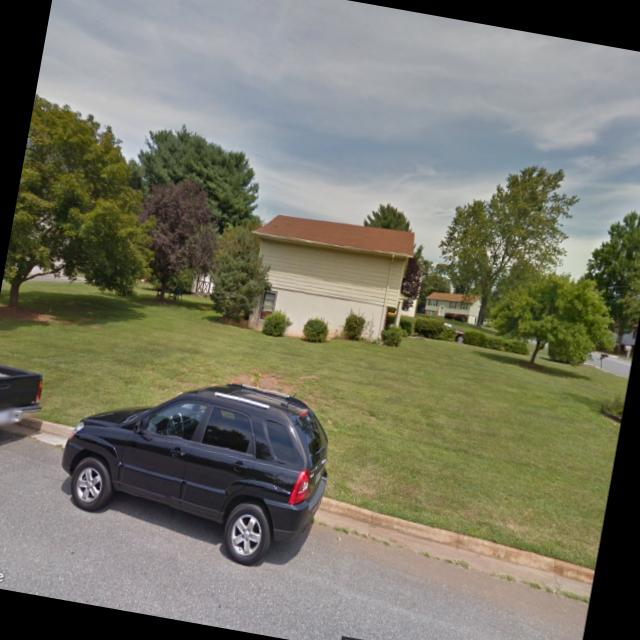House: (234, 202, 418, 355), (423, 288, 482, 326)
